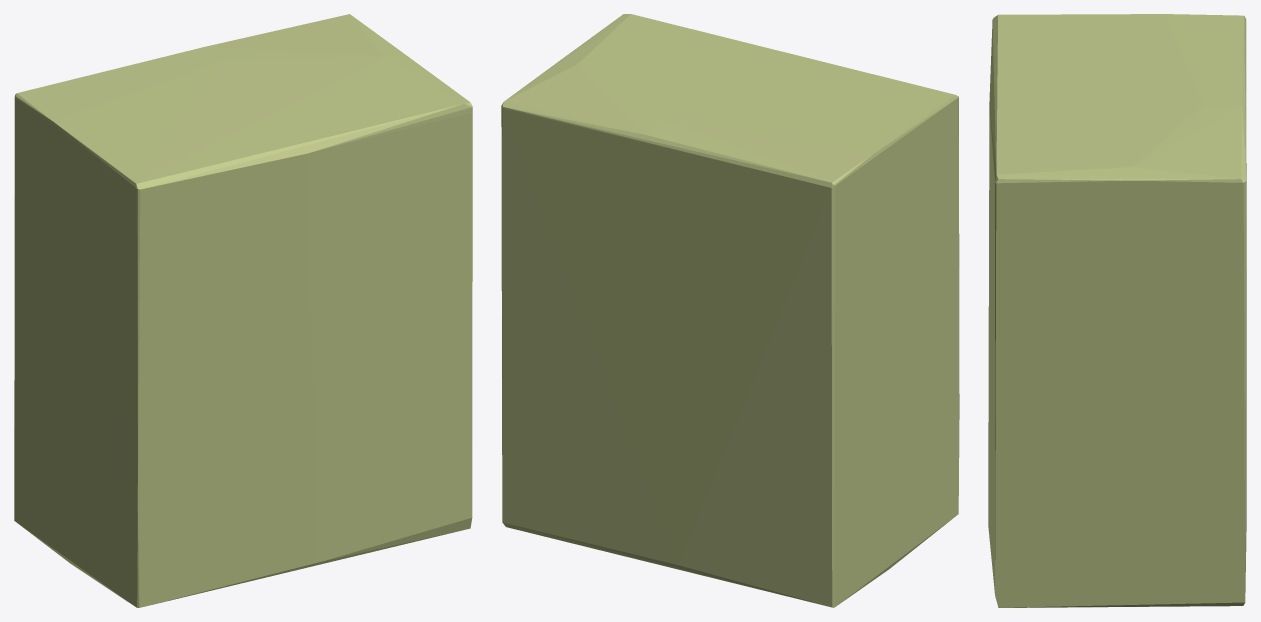
Rendered from box_flat_brown_b11.glb.
3 views of the same model, side by side, from view 1: azimuth 30°, elevation 25°; view 2: azimuth 150°, elevation 25°; view 3: azimuth 270°, elevation 25° (orthographic).
Visible parts, largest first — view 1: geometry_0; view 2: geometry_0; view 3: geometry_0.
Boxes of the visible parts, bbox=[...] form: geometry_0: bbox=[14, 14, 472, 607]; geometry_0: bbox=[501, 14, 959, 607]; geometry_0: bbox=[988, 14, 1246, 607].
Bounding box in the file's own units: 0.3918 × 0.4794 × 0.259.
